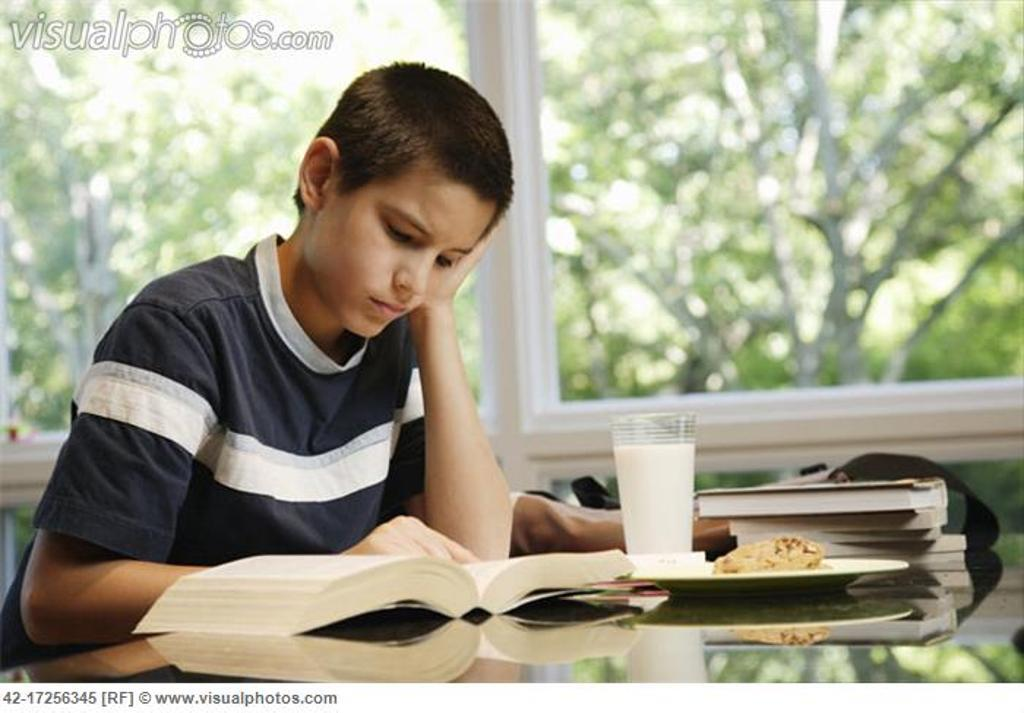face: (345, 177, 475, 339)
